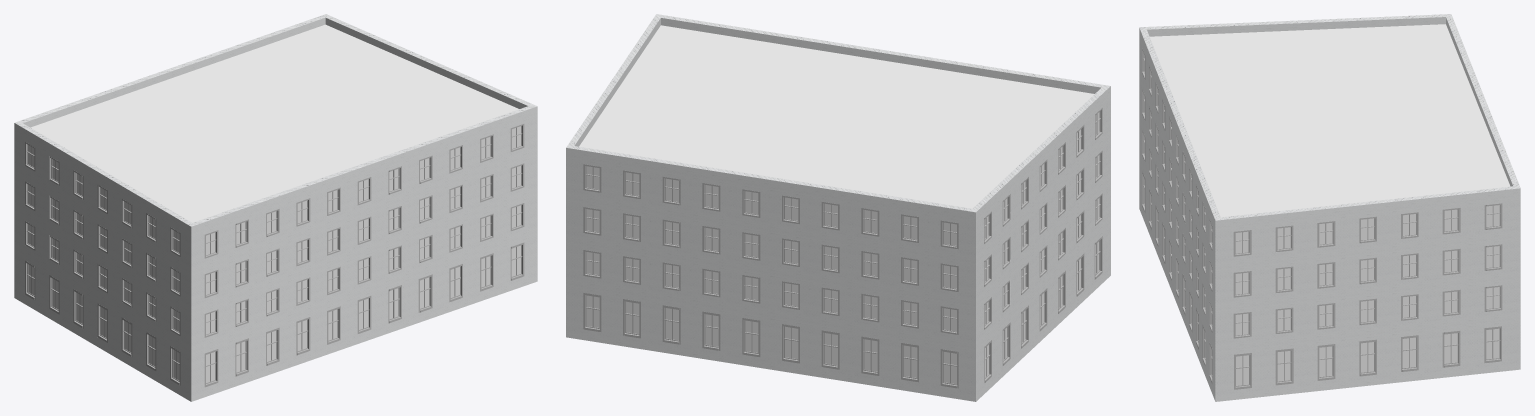
The model's file is clohbk8wf02n14p023w08wuws_0.glb.
The picture shows the model from 3 angles, left to right: view 1: azimuth 30°, elevation 25°; view 2: azimuth 150°, elevation 25°; view 3: azimuth 270°, elevation 25°; orthographic projection. The views are drawn at different scales.
Visible parts, largest first — view 1: mesh_Brick, mesh_CityEnginePBRShader, mesh_Rim, mesh_Glass; view 2: mesh_Brick, mesh_CityEnginePBRShader, mesh_Rim, mesh_Glass; view 3: mesh_Brick, mesh_CityEnginePBRShader, mesh_Rim, mesh_Glass.
Boxes of the visible parts, x1=… form: mesh_Brick: x1=14, y1=14, x2=537, y2=401; mesh_CityEnginePBRShader: x1=30, y1=24, x2=519, y2=222; mesh_Rim: x1=25, y1=124, x2=524, y2=387; mesh_Glass: x1=28, y1=126, x2=520, y2=382; mesh_Brick: x1=566, y1=14, x2=1110, y2=401; mesh_CityEnginePBRShader: x1=579, y1=25, x2=1094, y2=208; mesh_Rim: x1=583, y1=108, x2=1102, y2=388; mesh_Glass: x1=586, y1=112, x2=1099, y2=384; mesh_Brick: x1=1139, y1=14, x2=1520, y2=401; mesh_CityEnginePBRShader: x1=1150, y1=24, x2=1510, y2=217; mesh_Rim: x1=1142, y1=49, x2=1502, y2=389; mesh_Glass: x1=1144, y1=56, x2=1499, y2=385.
Size of the model in its own units: 37.25 by 15.23 by 29.05.
Materials: 4 (1 with a texture image).
